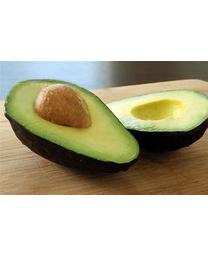avocado: (4, 77, 141, 180), (100, 87, 207, 153)
